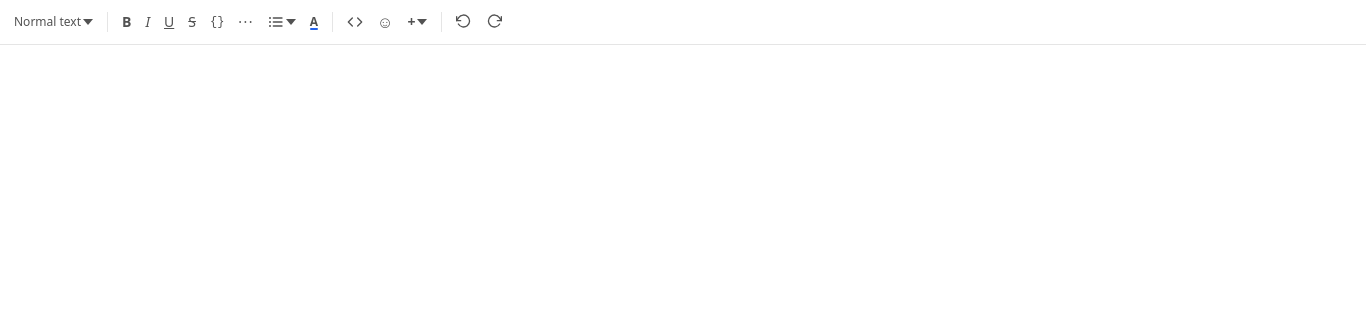
Test: EditorToolbar › dropdown closes when focus leaves it (blur with external relatedTarget)
Press the mouse on the button with aria-label "Text styles" at point(54, 22), box x1=8 y1=6 x2=99 y2=38
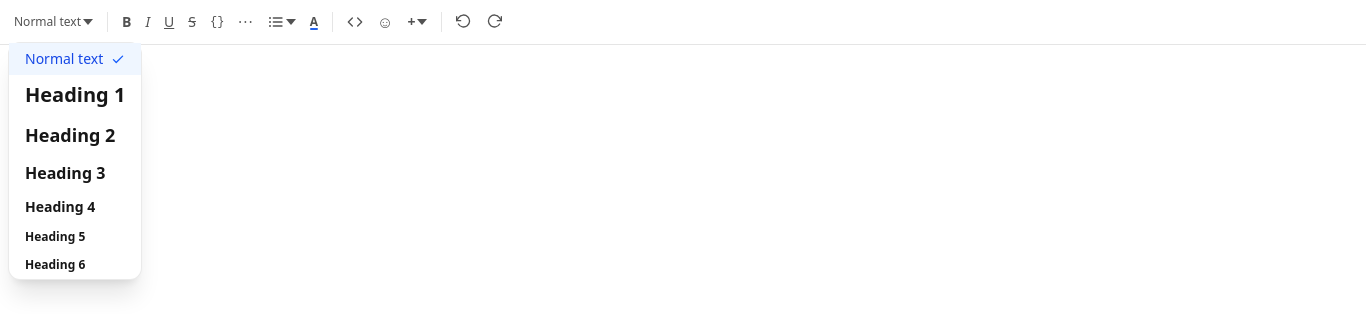
Check: the text "Heading 1" is shown, box x1=25 y1=81 x2=125 y2=109
// Simulate focus leaving the dropdown container to an external element
Leave the element named "Text styles", box x1=8 y1=6 x2=99 y2=38
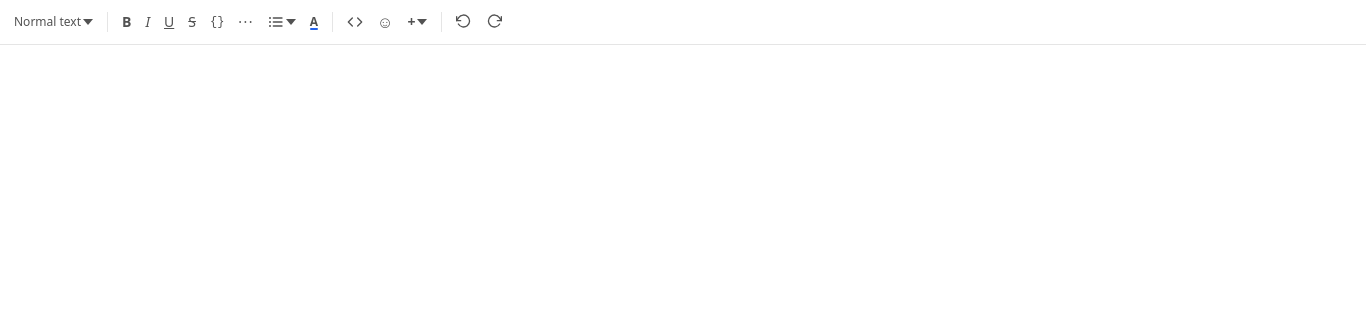
Check: the menu item "Heading 1" is gone
